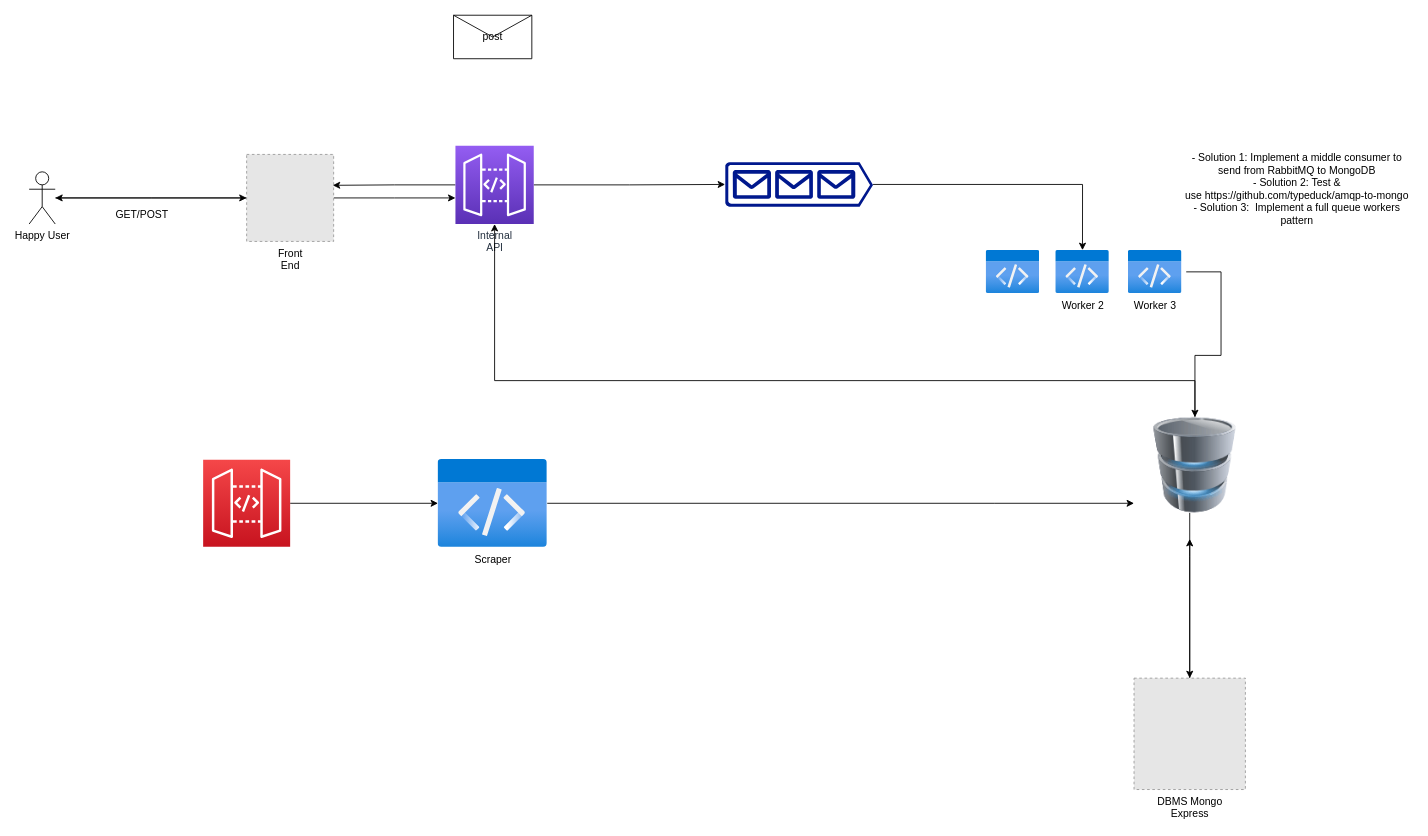
Image size: 1428x836. Some labels were removed from this diagram. Grey dashed boxes stand in for pictures. The shapes that lost their labels are listed below. From the top down, each one's box as (x1, y1, x2, y2) in pixels, then its label:
(725, 162, 873, 206): RabbitMQ
(986, 250, 1039, 293): Worker 1
(1134, 417, 1255, 512): Mongo DB
(202, 459, 290, 547): Public API
